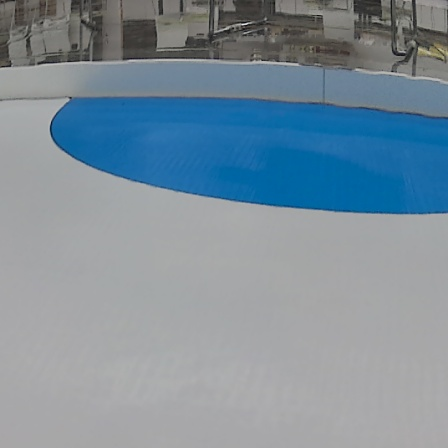blue_base: (47, 92, 448, 218)
